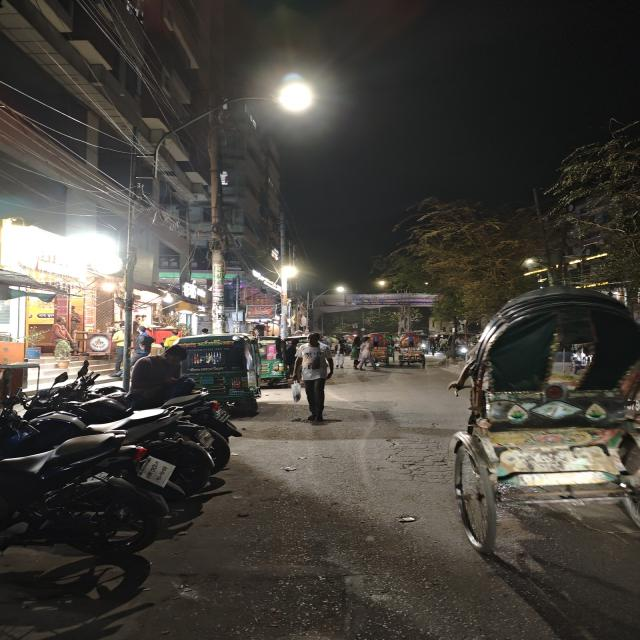cng: (170, 333, 270, 415)
motorcycle: (0, 405, 212, 640)
pedestrian: (285, 329, 340, 422)
rickshaw: (441, 284, 640, 558), (354, 331, 394, 370), (392, 332, 430, 370), (444, 332, 476, 364)
